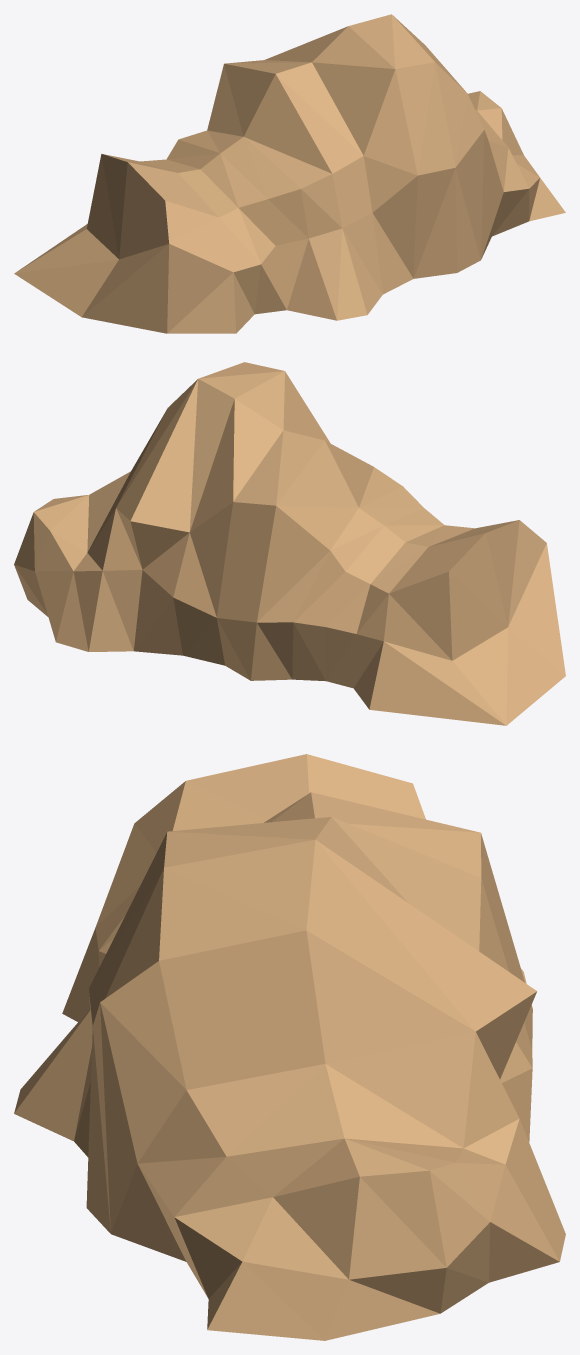
File: Rock_14.fbx
3 renders of one model, top to bottom at view 1: azimuth 30°, elevation 25°; view 2: azimuth 150°, elevation 25°; view 3: azimuth 270°, elevation 25°, orthographic. The views are drawn at different scales.
Visible parts, largest first — view 1: Rock_14; view 2: Rock_14; view 3: Rock_14.
Boxes of the visible parts, <box> form: Rock_14: <box>14,14,565,333</box>; Rock_14: <box>14,362,565,725</box>; Rock_14: <box>14,754,565,1340</box>.
Bounding box in the file's own units: 588 × 329 × 242.
